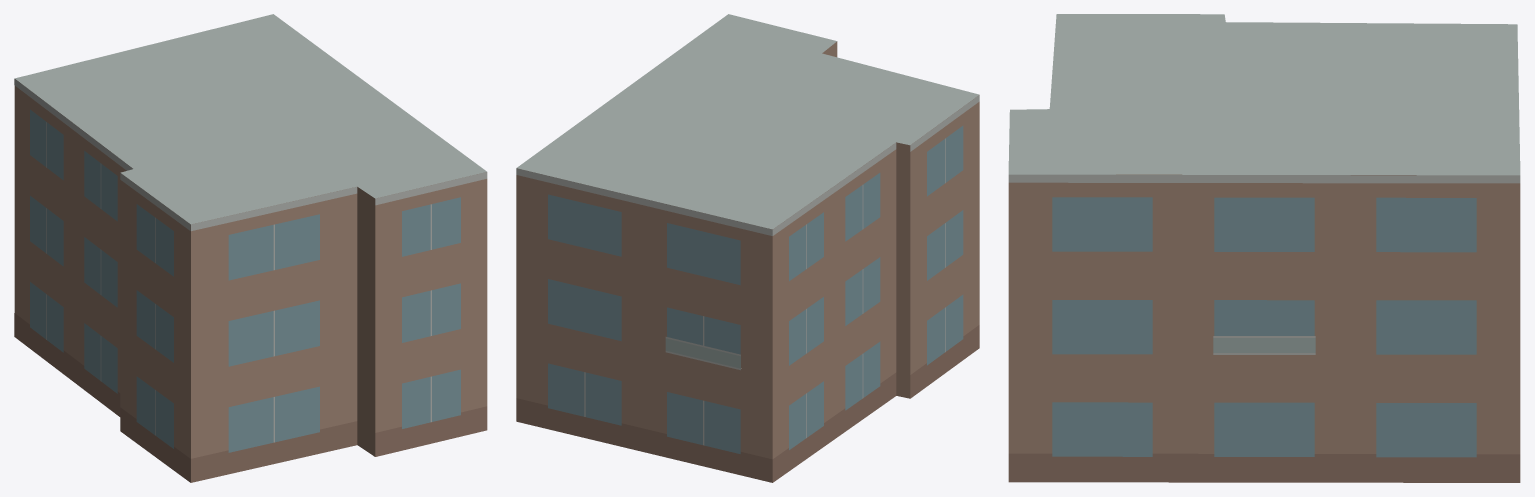
The model's file is survey-upis-32661784.glb.
3 renders of one model, left to right at view 1: azimuth 30°, elevation 25°; view 2: azimuth 150°, elevation 25°; view 3: azimuth 270°, elevation 25°, orthographic. The views are drawn at different scales.
Parts seen in each view (by area): view 1: survey-upis-32661784.tmp; view 2: survey-upis-32661784.tmp; view 3: survey-upis-32661784.tmp.
Boxes of the visible parts, x1=… form: survey-upis-32661784.tmp: x1=14, y1=14, x2=487, y2=482; survey-upis-32661784.tmp: x1=516, y1=14, x2=979, y2=482; survey-upis-32661784.tmp: x1=1008, y1=14, x2=1520, y2=482.
Size of the model in its own units: 10.31 by 9.15 by 13.81.
